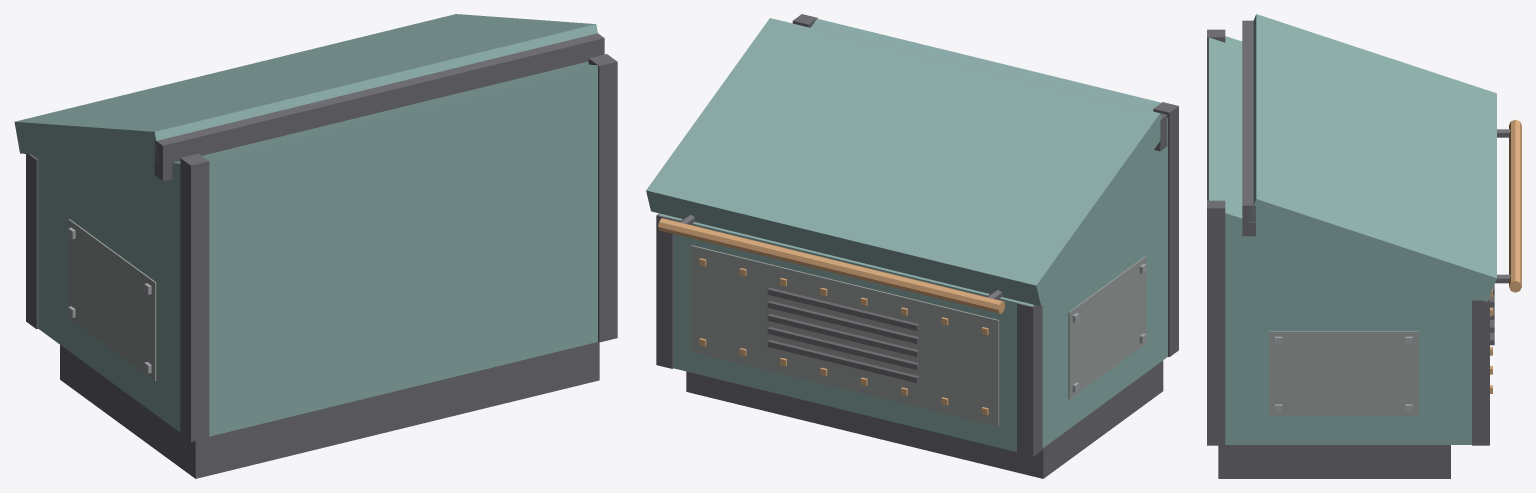
File: console_drill.glb
3 views of the same model, side by side, from view 1: azimuth 30°, elevation 25°; view 2: azimuth 150°, elevation 25°; view 3: azimuth 270°, elevation 25° (orthographic). The views are drawn at different scales.
Visible parts, largest first — view 1: console_drill; view 2: console_drill; view 3: console_drill.
Boxes of the visible parts, x1,y1,x2,y2 form: console_drill: (14, 14, 617, 478); console_drill: (646, 14, 1178, 478); console_drill: (1207, 14, 1521, 478).
Size of the model in its own units: 0.94 by 0.6823 by 0.6765.
